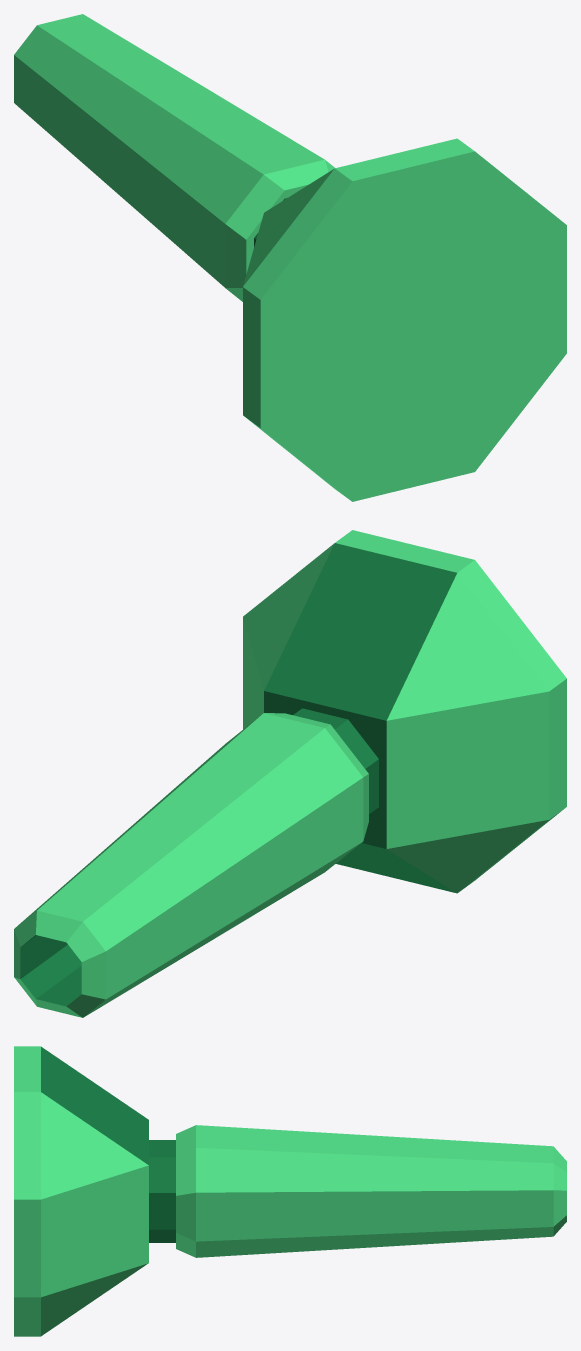
Rendered from gun.FBX.
The picture shows the model from 3 angles, top to bottom: view 1: azimuth 30°, elevation 25°; view 2: azimuth 150°, elevation 25°; view 3: azimuth 270°, elevation 25°; orthographic projection. The views are drawn at different scales.
Parts seen in each view (by area): view 1: VIFS001; view 2: VIFS001, VIFS002; view 3: VIFS001, VIFS002.
Boxes of the visible parts, box(x1,y1,x2,y2) form: VIFS001: box(14, 14, 566, 501); VIFS001: box(14, 530, 566, 1017); VIFS002: box(20, 543, 456, 1006); VIFS001: box(14, 1046, 566, 1336); VIFS002: box(41, 1046, 175, 1242).
Size of the model in its own units: 0.2 by 0.2 by 0.41.
